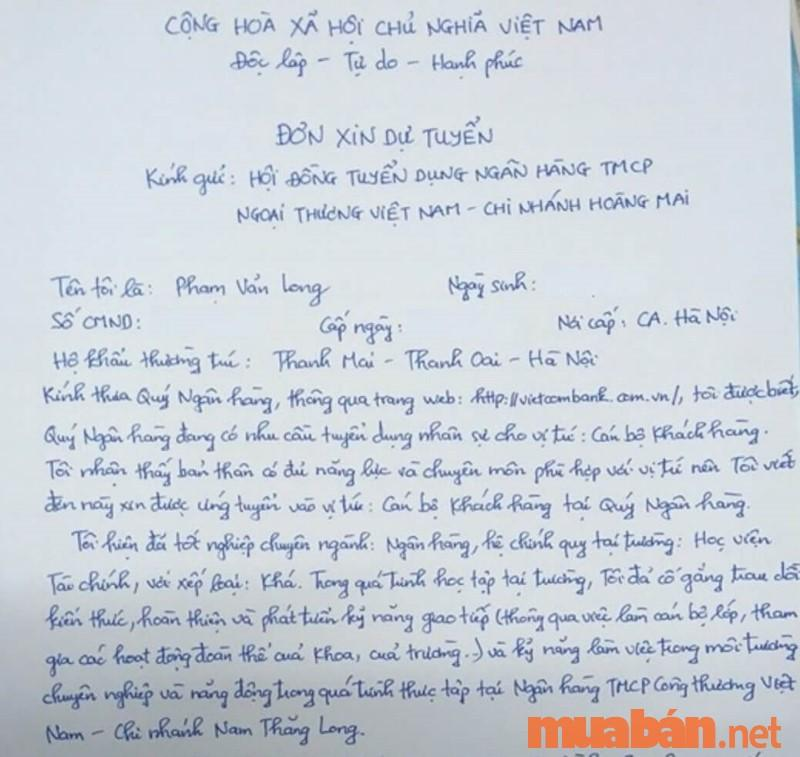text: (41, 629, 800, 681), (37, 371, 800, 418), (40, 445, 800, 490), (42, 557, 800, 602), (38, 670, 800, 714), (38, 415, 771, 455), (41, 599, 800, 636), (39, 486, 753, 525), (68, 526, 775, 563), (141, 154, 657, 199), (230, 183, 695, 232), (46, 343, 603, 380), (160, 6, 605, 47), (522, 706, 784, 754), (46, 267, 336, 310), (43, 711, 368, 748), (226, 45, 528, 82), (270, 113, 496, 155), (551, 302, 740, 337), (444, 267, 540, 303), (315, 309, 403, 347), (46, 305, 145, 335)
